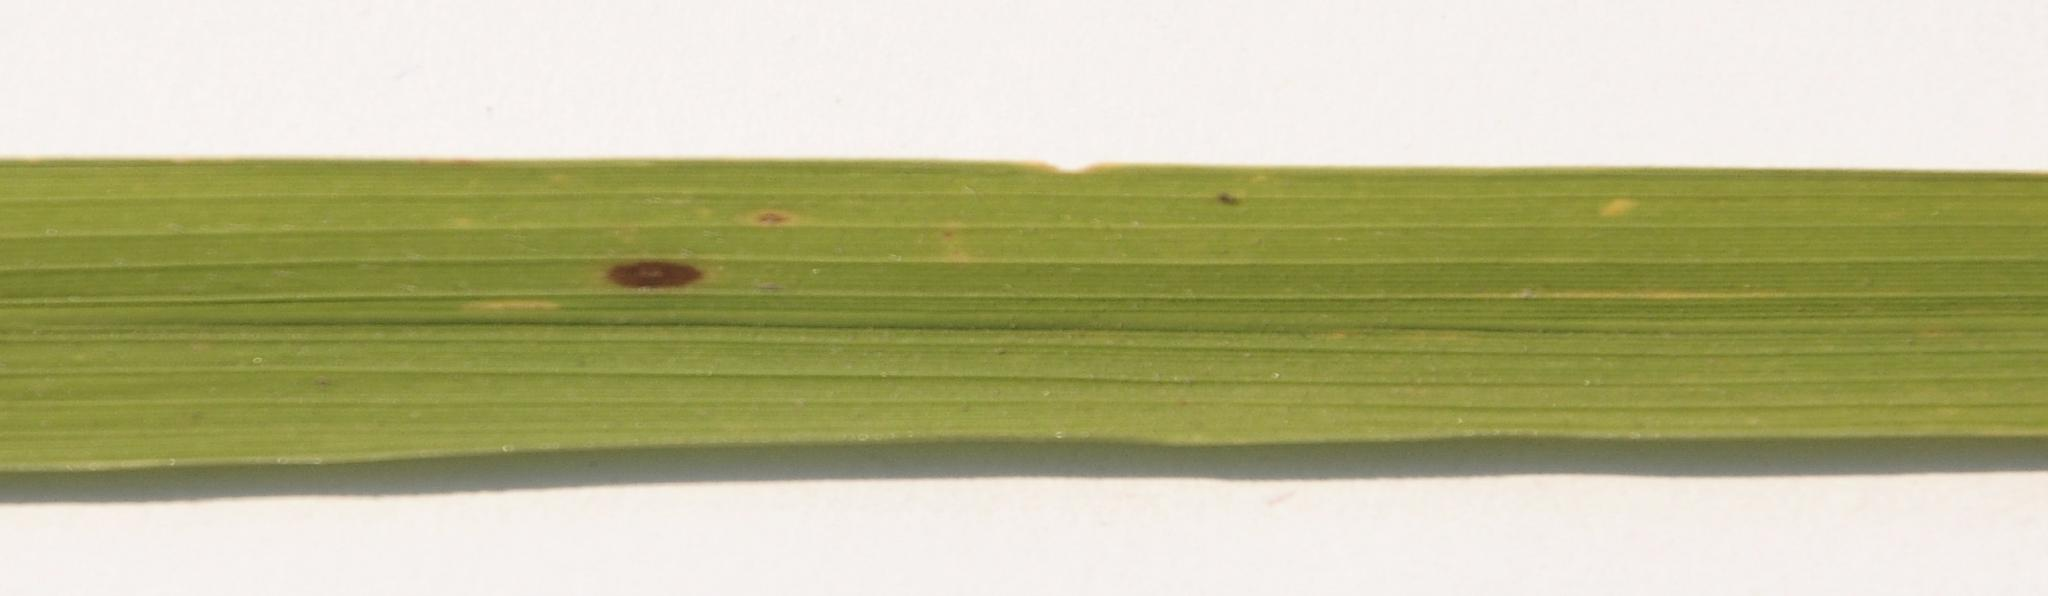0 BrownSpot: (566, 221, 725, 306)
